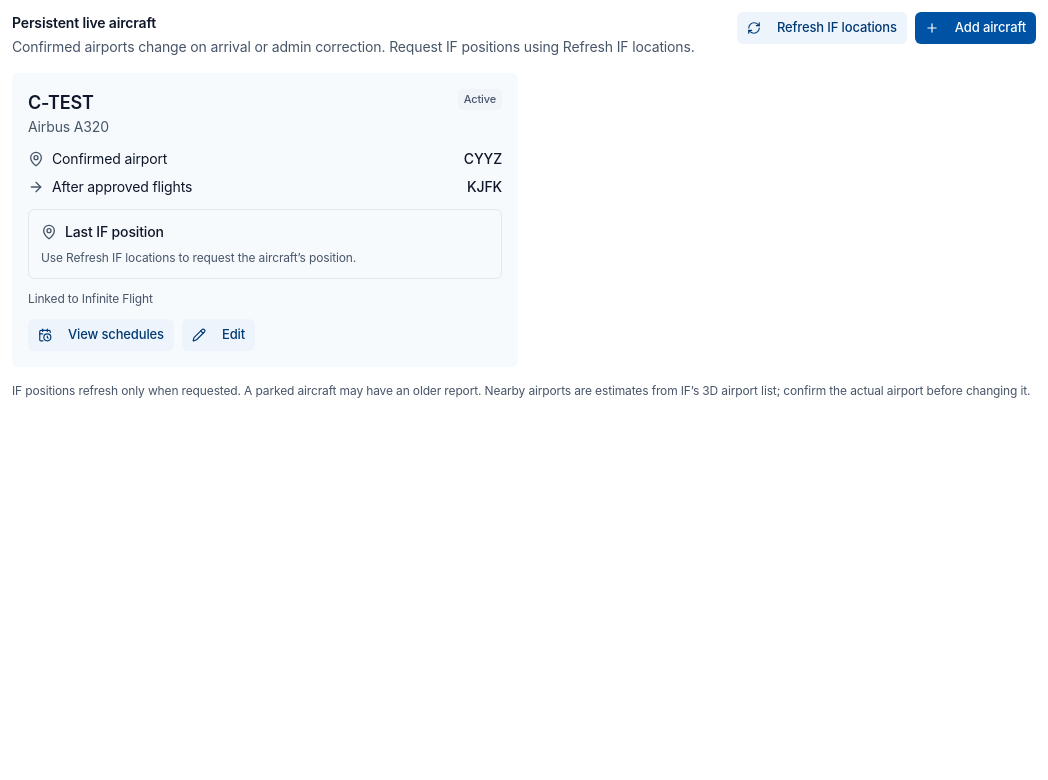
Test case: admin-requested fleet positions › retains the last successful snapshot after a transient failed refresh
The width and height of the screenshot is (1048, 780).
Click the button "Refresh IF locations" at x=822, y=28, box [737,12,907,44]
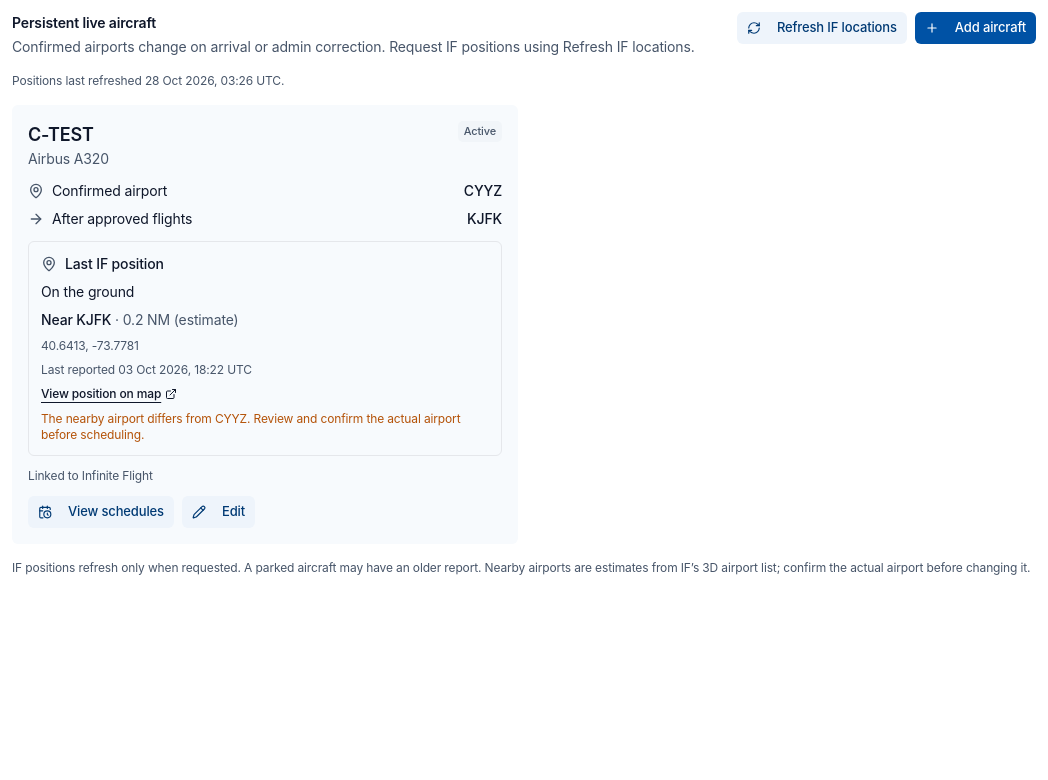
Click the button "Refresh IF locations" at x=822, y=28, box [737,12,907,44]
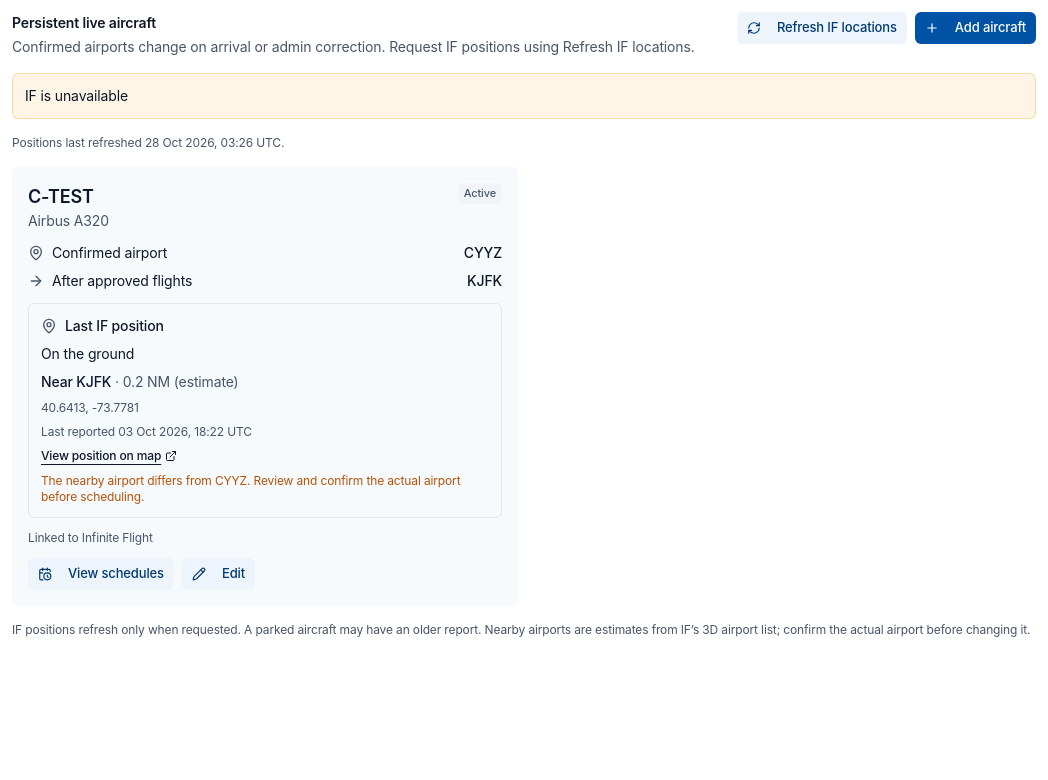
Expected: the text "40.6413" is shown, [41,400,85,415]
Expected: the message "IF is unavailable" is shown, [12,73,1036,119]
